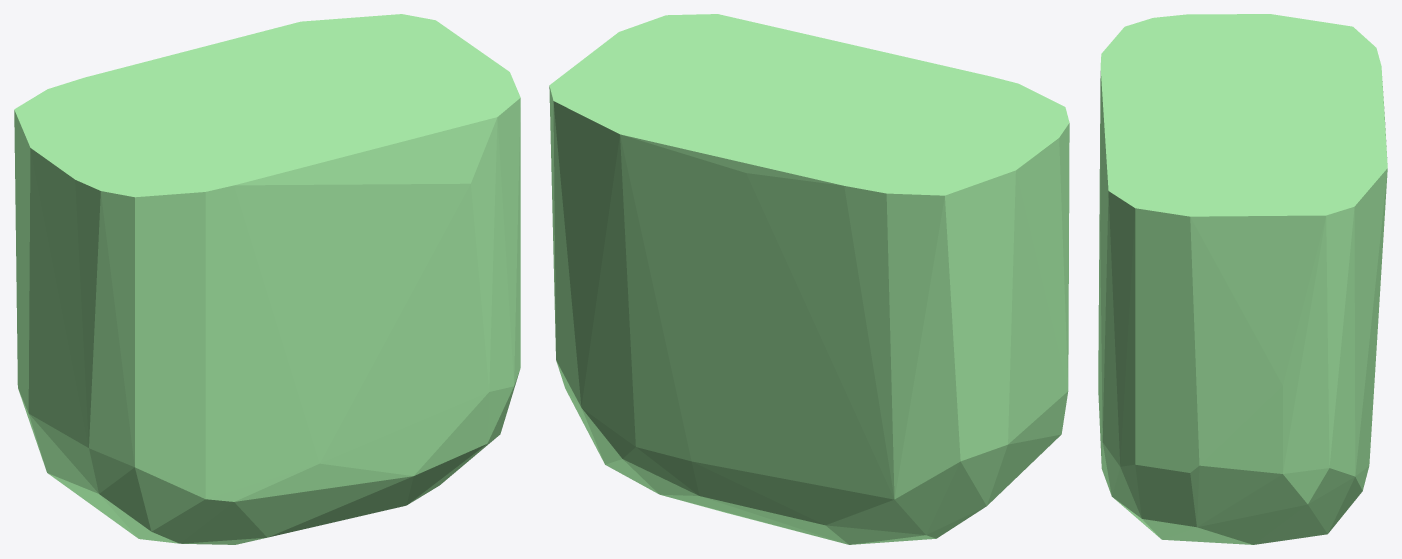
Rendered from dxxx_robot_base_coll_4.dae.
3 views of the same model, side by side, from view 1: azimuth 30°, elevation 25°; view 2: azimuth 150°, elevation 25°; view 3: azimuth 270°, elevation 25° (orthographic). The views are drawn at different scales.
Parts seen in each view (by area): view 1: Node_000001D818CBB270; view 2: Node_000001D818CBB270; view 3: Node_000001D818CBB270.
Boxes of the visible parts, x1=… form: Node_000001D818CBB270: x1=14, y1=14, x2=520, y2=544; Node_000001D818CBB270: x1=549, y1=14, x2=1069, y2=544; Node_000001D818CBB270: x1=1098, y1=14, x2=1387, y2=544.
Size of the model in its own units: 0.1825 by 0.155 by 0.1095.
